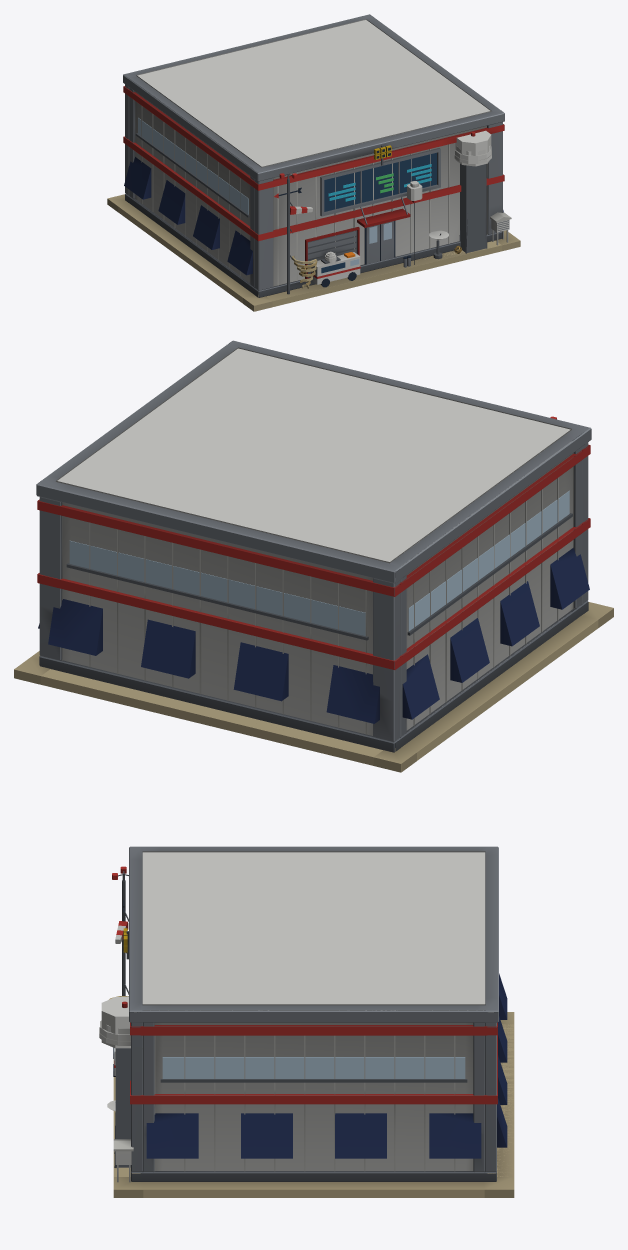
File: DustDevilFloor.fbx
3 renders of one model, top to bottom at view 1: azimuth 30°, elevation 25°; view 2: azimuth 150°, elevation 25°; view 3: azimuth 270°, elevation 25°, orthographic. The views are drawn at different scales.
Parts seen in each view (by area): view 1: WX_S_All, WX_F_Rings, WX_F_Smooth, WX_F_Glass, WX_F_Props, WX_F_Quiet; view 2: WX_S_All, WX_F_Rings, WX_F_Smooth, WX_F_Props, WX_F_Glass, WX_F_Quiet; view 3: WX_S_All, WX_F_Rings, WX_F_Smooth, WX_F_Props, WX_F_Glass, WX_F_Quiet.
Part boxes in pixels (x1,y1,x2,y2): WX_S_All: (110, 20, 520, 311); WX_F_Rings: (123, 14, 504, 290); WX_F_Smooth: (107, 74, 520, 311); WX_F_Glass: (138, 118, 436, 273); WX_F_Props: (124, 145, 511, 287); WX_F_Quiet: (108, 194, 519, 305); WX_S_All: (15, 348, 613, 772); WX_F_Rings: (36, 340, 591, 741); WX_F_Smooth: (14, 418, 613, 772); WX_F_Props: (38, 416, 589, 723); WX_F_Glass: (69, 490, 569, 635); WX_F_Quiet: (14, 602, 613, 763); WX_S_All: (101, 852, 514, 1197); WX_F_Rings: (129, 846, 498, 1171); WX_F_Smooth: (109, 847, 513, 1197); WX_F_Props: (99, 873, 507, 1164); WX_F_Glass: (114, 1048, 465, 1078); WX_F_Quiet: (114, 1012, 513, 1189).
Bounding box in the file's own units: 60 × 20 × 60.
